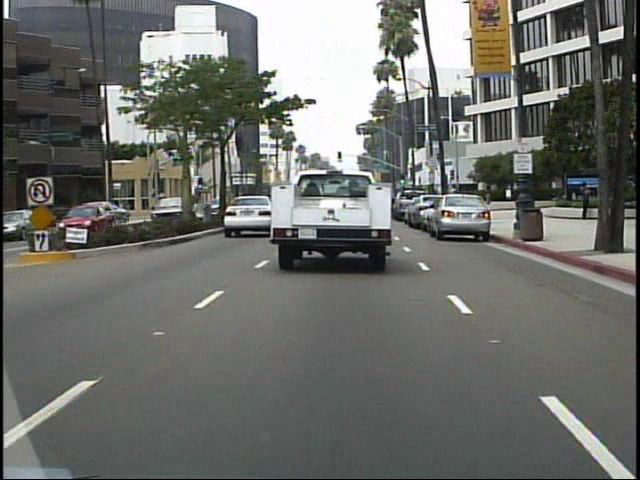person: (581, 177, 594, 225)
